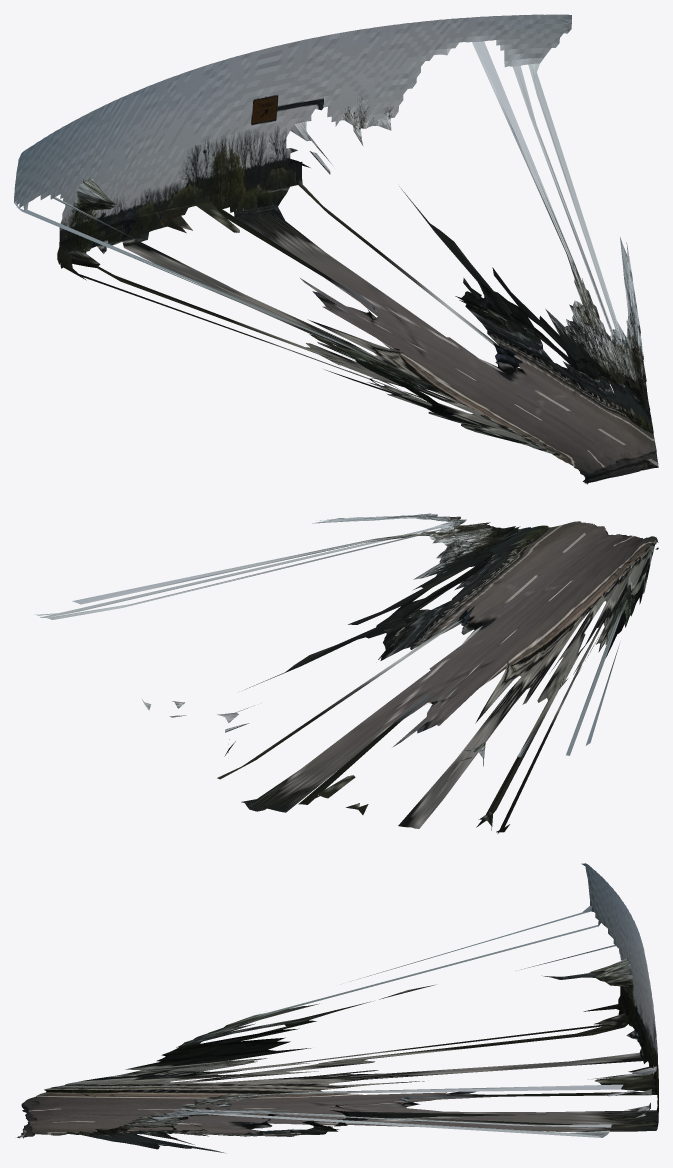
3 renders of one model, top to bottom at view 1: azimuth 30°, elevation 25°; view 2: azimuth 150°, elevation 25°; view 3: azimuth 270°, elevation 25°, orthographic. The views are drawn at different scales.
Visible parts, largest first — view 1: defaultobject; view 2: defaultobject; view 3: defaultobject.
Part boxes in pixels (box(x1,y1,x2,y2)): defaultobject: box(14, 14, 658, 484); defaultobject: box(35, 513, 658, 833); defaultobject: box(17, 863, 658, 1153).
Size of the model in its own units: 39.67 by 11.85 by 44.75.
1 material, 1 textured.
